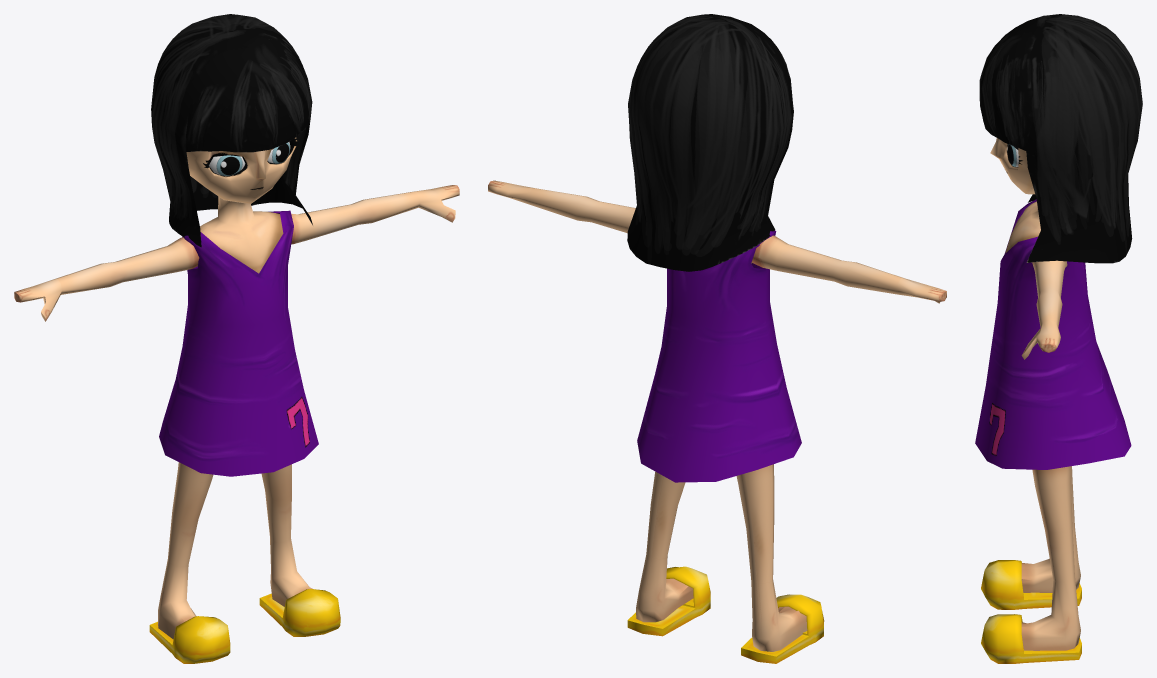
The model's file is Nico_Robin.dae.
3 views of the same model, side by side, from view 1: azimuth 30°, elevation 25°; view 2: azimuth 150°, elevation 25°; view 3: azimuth 270°, elevation 25° (orthographic). The views are drawn at different scales.
Visible parts, largest first — view 1: Abbigliamento, Cappelli, Braccia, Gambe, Testa, Occhi; view 2: Cappelli, Abbigliamento, Gambe, Braccia; view 3: Cappelli, Abbigliamento, Gambe, Braccia, Testa.
Part boxes in pixels (bbox=[...]): Abbigliamento: bbox=[149, 210, 340, 663]; Cappelli: bbox=[151, 14, 312, 247]; Braccia: bbox=[14, 185, 459, 321]; Gambe: bbox=[158, 462, 313, 639]; Testa: bbox=[186, 137, 297, 273]; Occhi: bbox=[209, 142, 290, 175]; Cappelli: bbox=[627, 14, 793, 271]; Abbigliamento: bbox=[627, 230, 824, 663]; Gambe: bbox=[636, 464, 807, 651]; Braccia: bbox=[488, 180, 946, 303]; Cappelli: bbox=[979, 14, 1142, 263]; Abbigliamento: bbox=[975, 199, 1131, 663]; Gambe: bbox=[1021, 466, 1080, 650]; Braccia: bbox=[1021, 260, 1066, 359]; Testa: bbox=[990, 138, 1067, 267].
Bounding box in the file's own units: 457 × 594 × 150.
Materials: 6 (6 with a texture image).
